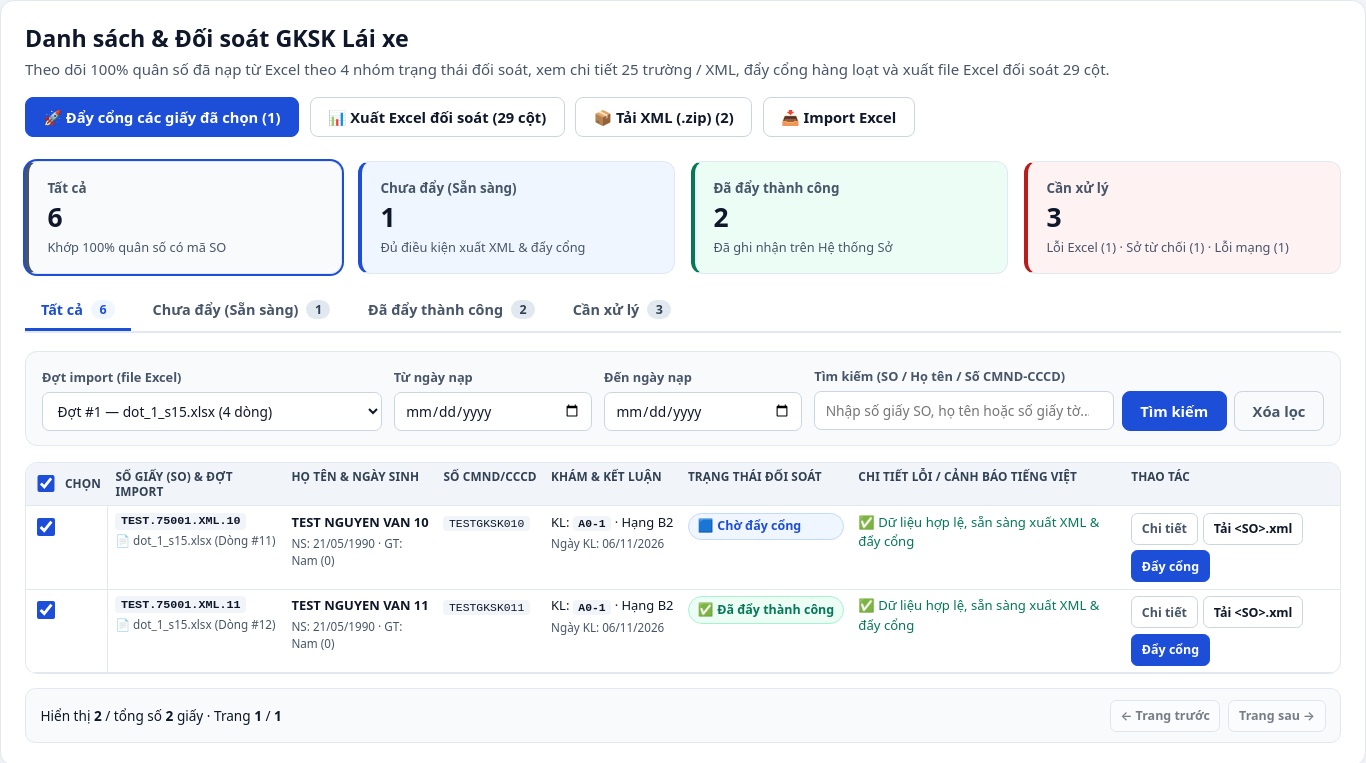
Test: S15 — StatusBadge, ReconcileSummary & ListPage (Danh sách & Đối soát, Xuất XML/ZIP/Excel) › 4. Bấm Tải <SO>.xml lẻ, Tải XML (.zip) và Xuất Excel đối soát gọi đúng các endpoint tải file
Later steps or results of the test are not shown.
Expected: the table with test id "reconcile-table" is shown, [26,463,1340,673]
Click the button with test id "download-xml-btn-10": (1253, 529) [1203,513,1303,545]
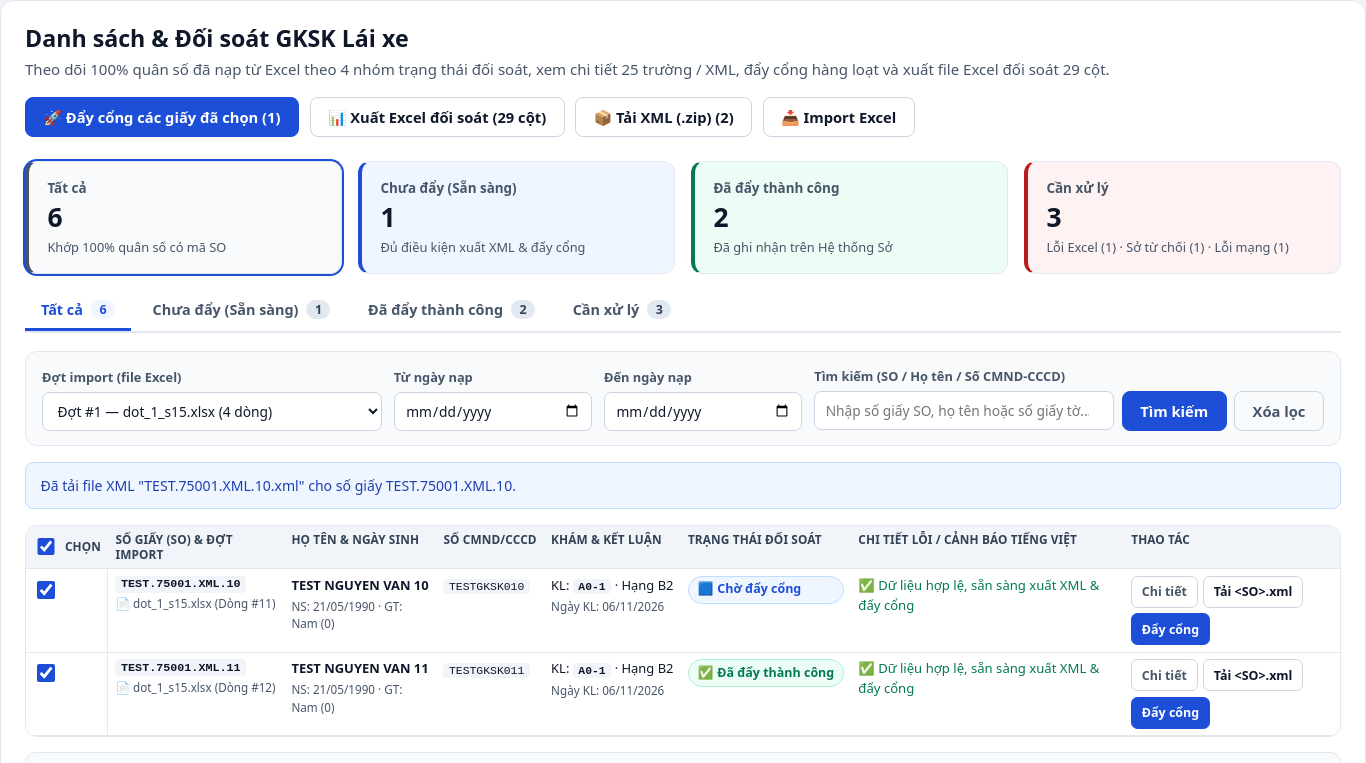
Expected: the message with test id "list-action-notice" shows "TEST.75001.XML.10.xml", [40,476,516,495]
